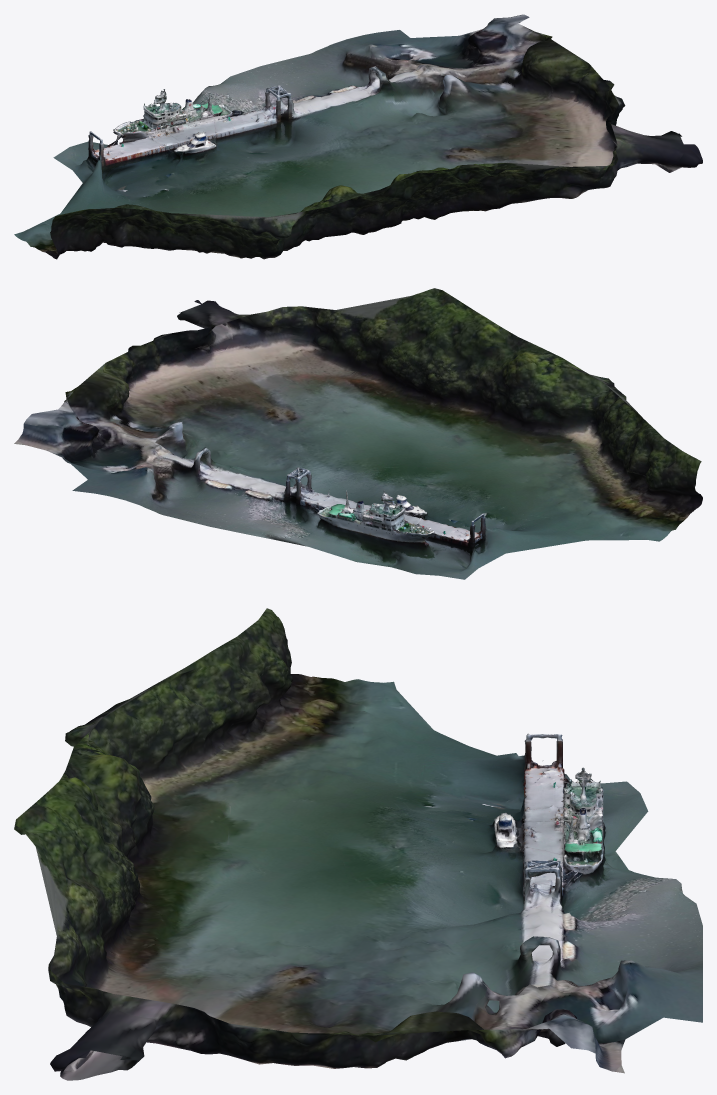
The model's file is tobamaru.glb.
3 views of the same model, one above another, from view 1: azimuth 30°, elevation 25°; view 2: azimuth 150°, elevation 25°; view 3: azimuth 270°, elevation 25° (orthographic). The views are drawn at different scales.
Visible parts, largest first — view 1: g0; view 2: g0; view 3: g0.
Part boxes in pixels (x1,y1,x2,y2): g0: (14,14,702,259); g0: (14,288,702,579); g0: (14,608,702,1080).
Bounding box in the file's own units: 3.52 × 0.5696 × 2.47.
Materials: 1 (1 with a texture image).
